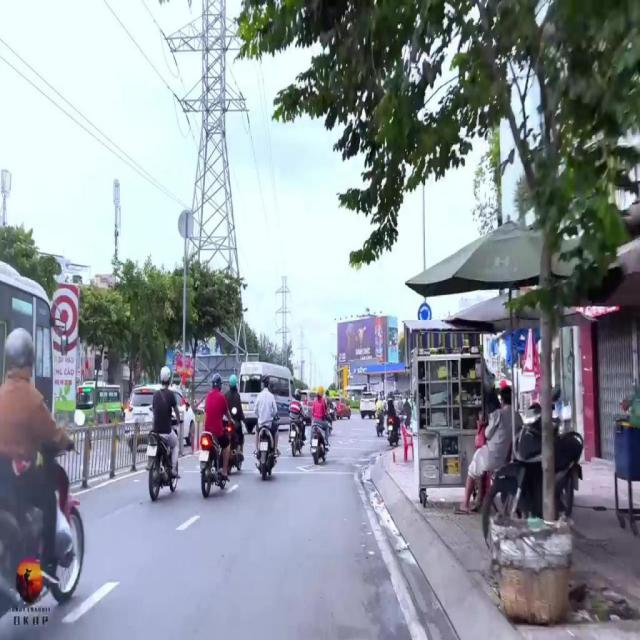noi_giao_nhau_chay_theo_vong: (417, 302, 432, 320)
